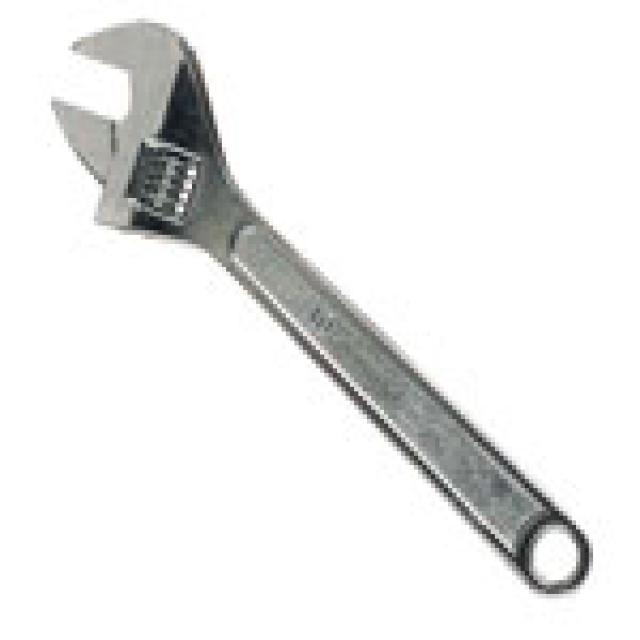wrench: (6, 0, 487, 489)
